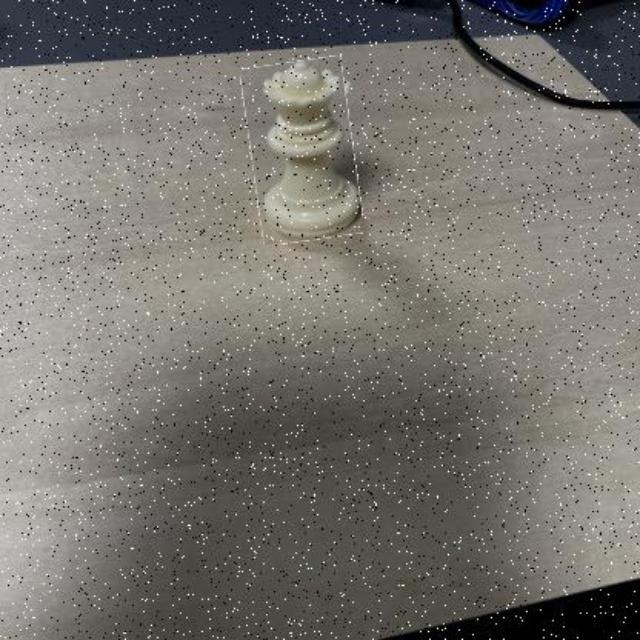white-queen: (247, 58, 359, 244)
